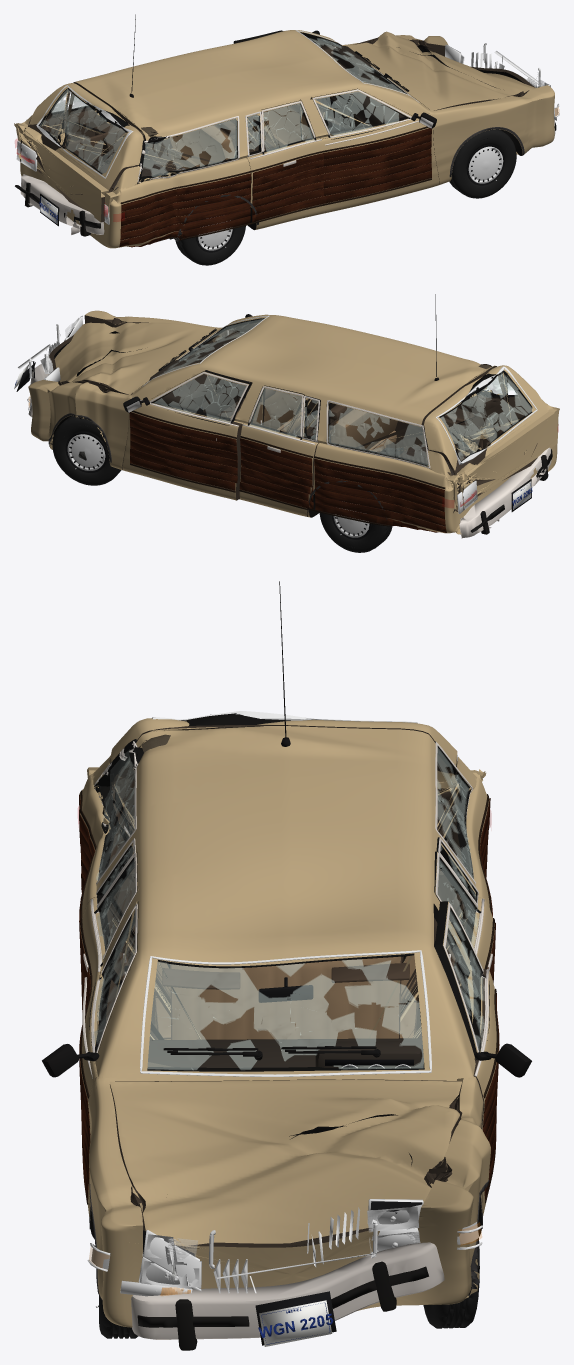
File: wagon82_front_corner_d1_lod1.glb
The picture shows the model from 3 angles, top to bottom: view 1: azimuth 30°, elevation 25°; view 2: azimuth 150°, elevation 25°; view 3: azimuth 270°, elevation 25°; orthographic projection. The views are drawn at different scales.
Visible parts, largest first — view 1: Body, Trim, Interior, Tailgate, Trim_FR, Hood, Trim_RR, Glass, Glass_Tailgate, Wheel_FR_mesh, Door_FR, Glass_FR (+5 smaller); view 2: Body, Trim, Hood, Interior, Tailgate, Trim_FL, Trim_RL, Glass_Tailgate, Glass, Door_FL, Wheel_FL_mesh, Bumper_R (+5 smaller); view 3: Body, Hood, Interior, Glass, Bumper_F, Ends, Tailgate, Trim, Door_FL, Trim_FL, Trim_FR, Door_FR (+9 smaller).
Part boxes in pixels (x1,y1,x2,y2): Body: (14, 30, 554, 248); Trim: (59, 14, 524, 247); Interior: (67, 46, 404, 189); Tailgate: (18, 83, 143, 222); Trim_FR: (312, 89, 436, 205); Hood: (346, 31, 535, 110); Trim_RR: (245, 101, 326, 222); Glass: (52, 30, 419, 184); Glass_Tailgate: (36, 85, 133, 178); Wheel_FR_mesh: (449, 129, 516, 198); Door_FR: (312, 88, 439, 212); Glass_FR: (315, 89, 410, 139); Body: (28, 310, 559, 534); Trim: (48, 294, 499, 532); Hood: (54, 322, 219, 394); Interior: (149, 336, 509, 512); Tailgate: (423, 365, 557, 510); Trim_FL: (123, 372, 248, 492); Trim_RL: (239, 386, 319, 509); Glass_Tailgate: (436, 366, 537, 464); Glass: (142, 315, 514, 465); Door_FL: (122, 370, 251, 500); Wheel_FL_mesh: (52, 416, 121, 485); Bumper_R: (459, 447, 552, 538); Body: (79, 726, 490, 1327); Hood: (109, 1079, 462, 1248); Interior: (148, 955, 423, 1068); Glass: (94, 739, 473, 1076); Bumper_F: (131, 1242, 444, 1350); Ends: (87, 805, 482, 1346); Tailgate: (109, 713, 457, 875); Trim: (79, 581, 492, 1300); Door_FL: (434, 901, 498, 1215); Trim_FL: (443, 902, 531, 1202); Trim_FR: (42, 903, 137, 1204); Door_FR: (80, 902, 138, 1216).
Bounding box in the file's own units: 4.97 × 2.18 × 2.14.
Materials: 35 (6 with a texture image).
